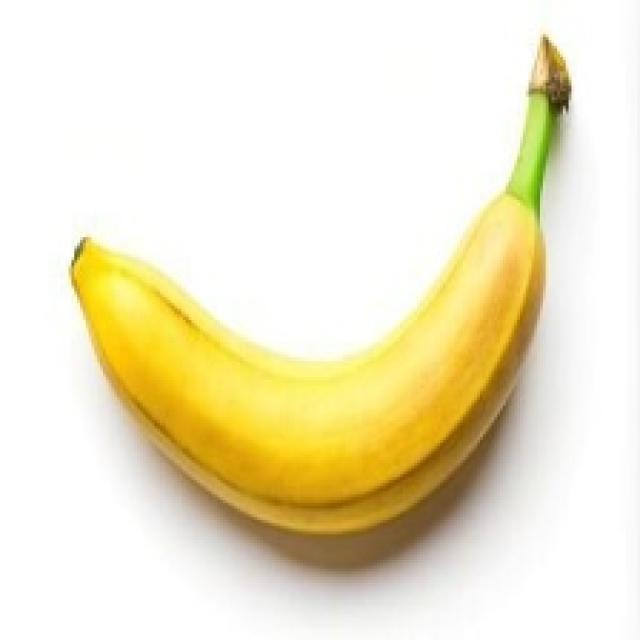Banana: (66, 32, 571, 537)
